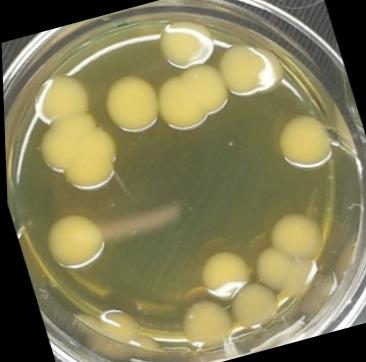valgino: (18, 60, 127, 200), (237, 204, 337, 302), (147, 57, 236, 138), (213, 31, 290, 106), (93, 66, 168, 142), (36, 205, 112, 276), (267, 105, 338, 175), (150, 10, 223, 76), (168, 292, 238, 356), (222, 274, 288, 338), (190, 242, 254, 304), (92, 298, 145, 348)
